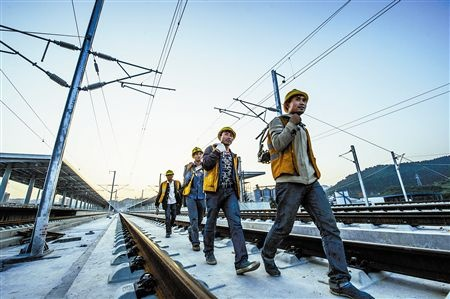yellow: (281, 88, 309, 118), (216, 126, 237, 147), (189, 144, 205, 164), (163, 169, 175, 182)
